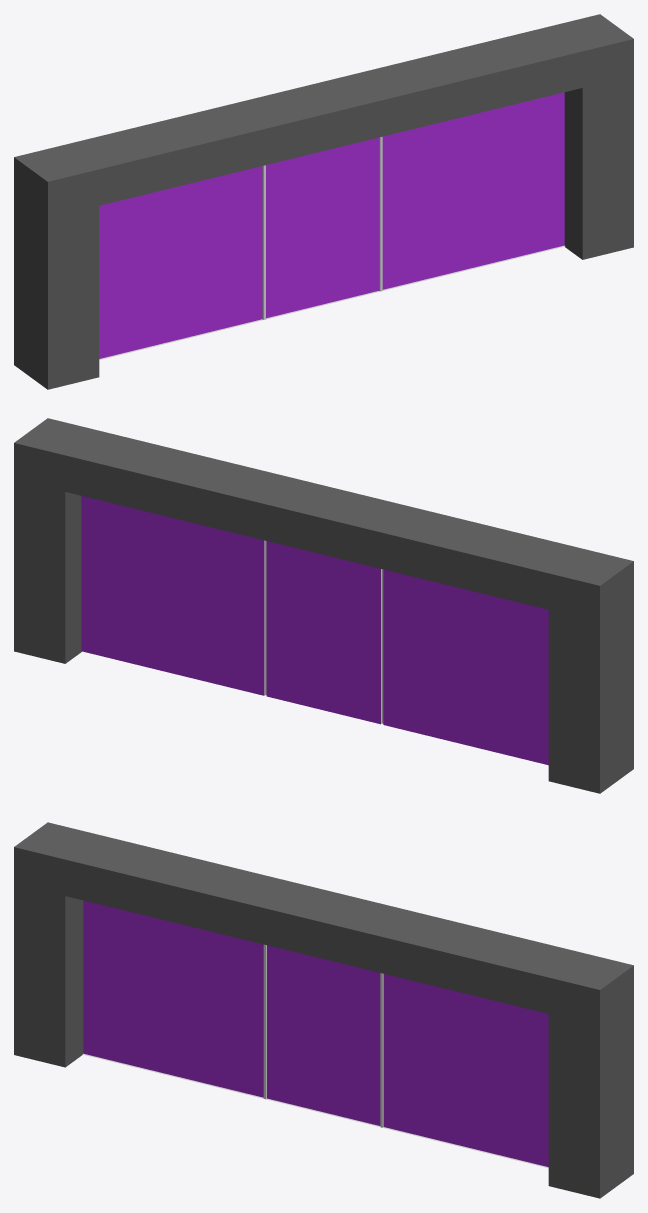
File: side_shop2.fbx
3 renders of one model, top to bottom at view 1: azimuth 30°, elevation 25°; view 2: azimuth 150°, elevation 25°; view 3: azimuth 330°, elevation 25°, orthographic.
Visible parts, largest first — view 1: shop2; view 2: shop2; view 3: shop2.
Boxes of the visible parts, left/top/right/bottom form: shop2: left=14, top=14, right=633, bottom=389; shop2: left=14, top=418, right=633, bottom=793; shop2: left=14, top=822, right=633, bottom=1198.
Bounding box in the file's own units: 1000 × 340 × 100.
